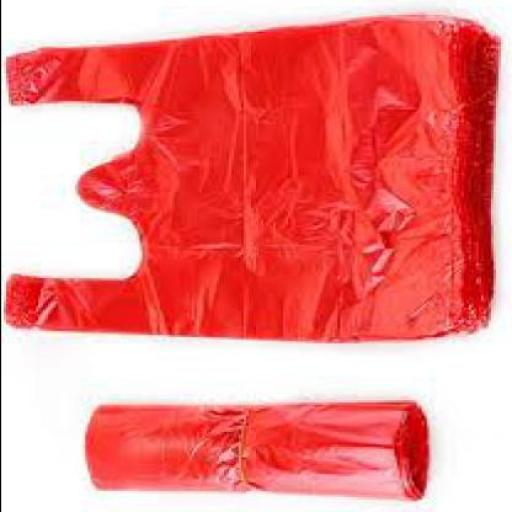plastic: (1, 16, 500, 345), (82, 404, 424, 502)
